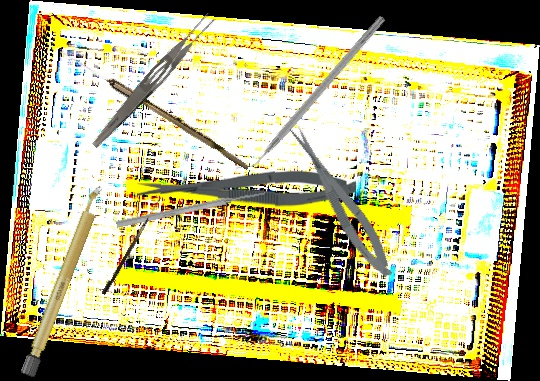Chopper: (233, 7, 387, 180)
Dressing Forceps: (88, 9, 219, 154)
Hook Surgical: (101, 194, 162, 296)
Micro Scissor: (284, 118, 400, 284), (136, 167, 357, 208)
Pusher: (115, 188, 267, 230)
Scalpel Handle: (19, 182, 109, 380)
Surgical Spoon: (58, 48, 252, 170)
